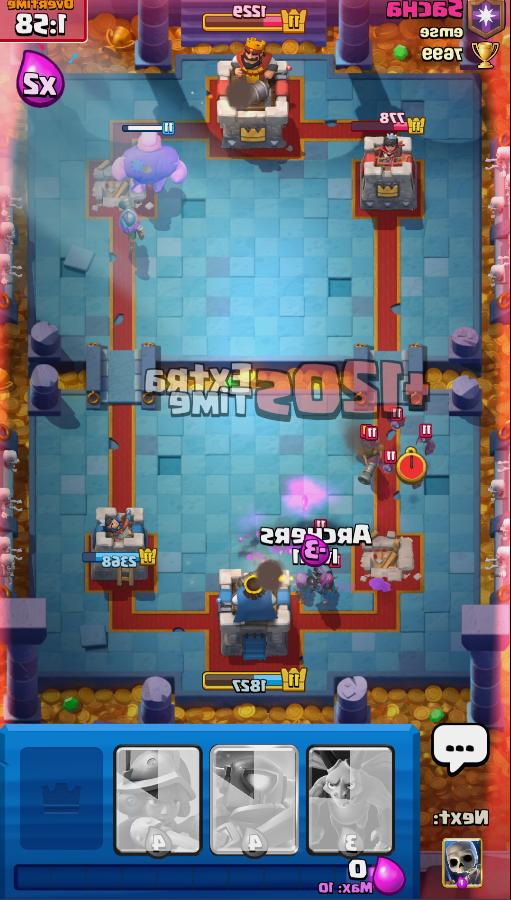archere: (287, 567, 319, 611), (313, 568, 341, 611)
bat: (381, 409, 413, 439), (369, 453, 402, 477), (411, 429, 440, 456), (354, 432, 383, 454)
geant: (98, 120, 189, 203)
mousquetaire: (108, 203, 147, 257), (350, 431, 387, 486)
